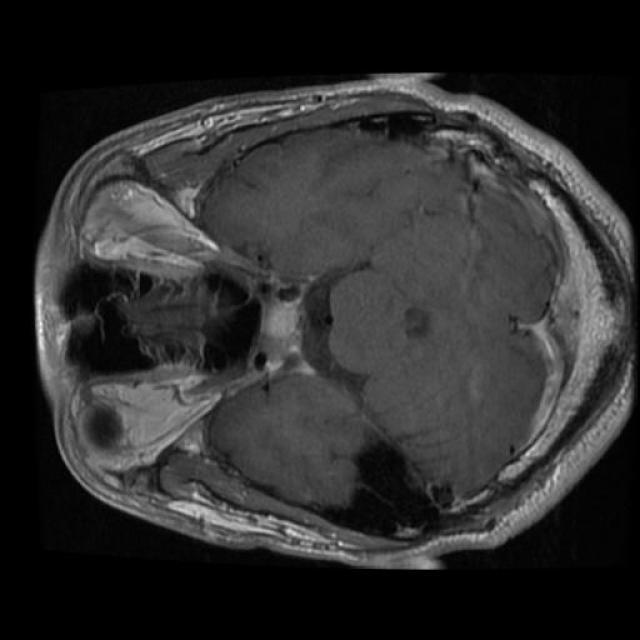Pituitary: (242, 257, 316, 381)
